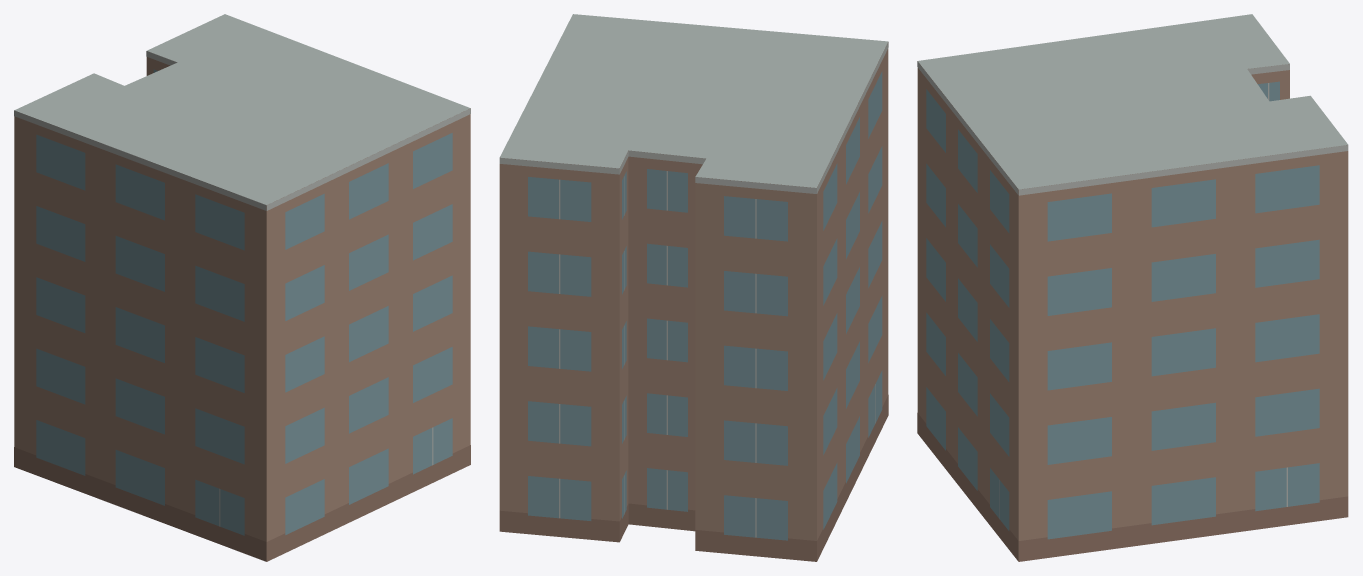
File: survey-upis-32624365.glb
The picture shows the model from 3 angles, left to right: view 1: azimuth 30°, elevation 25°; view 2: azimuth 150°, elevation 25°; view 3: azimuth 270°, elevation 25°; orthographic projection. The views are drawn at different scales.
Parts seen in each view (by area): view 1: survey-upis-32624365.tmp; view 2: survey-upis-32624365.tmp; view 3: survey-upis-32624365.tmp.
Part boxes in pixels (bbox=[...]): survey-upis-32624365.tmp: bbox=[14, 14, 470, 561]; survey-upis-32624365.tmp: bbox=[499, 14, 888, 561]; survey-upis-32624365.tmp: bbox=[917, 14, 1348, 561].
Bounding box in the file's own units: 15.03 × 14.85 × 15.59.
